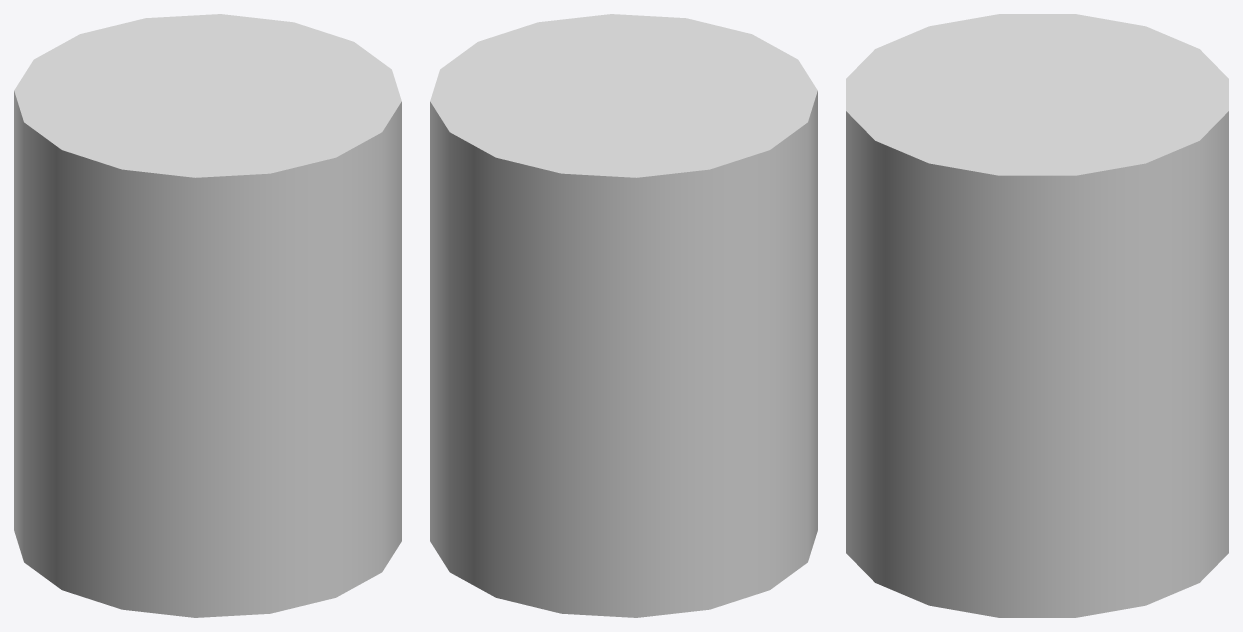
The model's file is tra_da_liquid.fbx.
3 renders of one model, left to right at view 1: azimuth 30°, elevation 25°; view 2: azimuth 150°, elevation 25°; view 3: azimuth 270°, elevation 25°, orthographic.
Parts seen in each view (by area): view 1: Ca dung nuoc; view 2: Ca dung nuoc; view 3: Ca dung nuoc.
Boxes of the visible parts, x1,y1,x2,y2 form: Ca dung nuoc: [14, 14, 401, 617]; Ca dung nuoc: [430, 14, 817, 617]; Ca dung nuoc: [846, 14, 1228, 617].
Bounding box in the file's own units: 26.21 × 33.4 × 26.21.
Materials: 1 (1 with a texture image).
